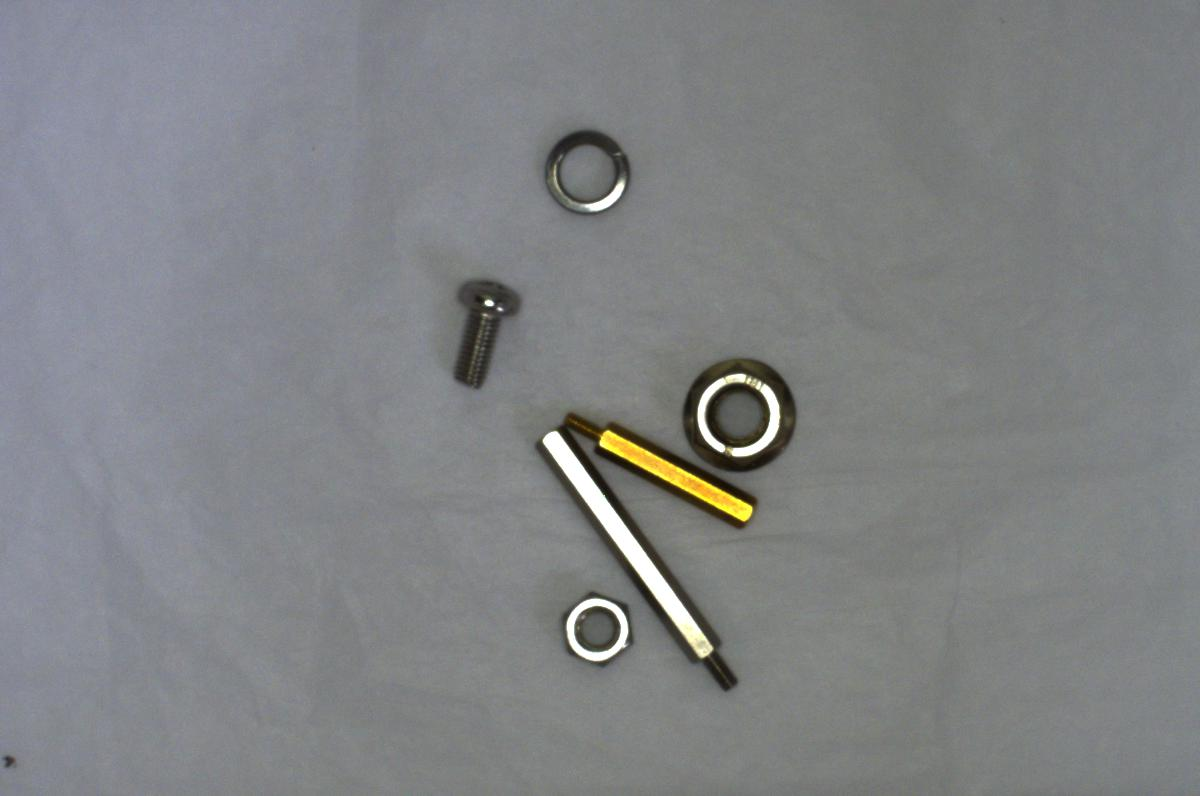Flange nut: (674, 353, 801, 478)
Hexagon nut: (548, 582, 634, 674)
Hexagon pillar: (551, 406, 766, 532)
Hexagonal steel column: (533, 425, 744, 698)
Round head screw: (442, 274, 524, 386)
Spring washer: (542, 119, 635, 215)
